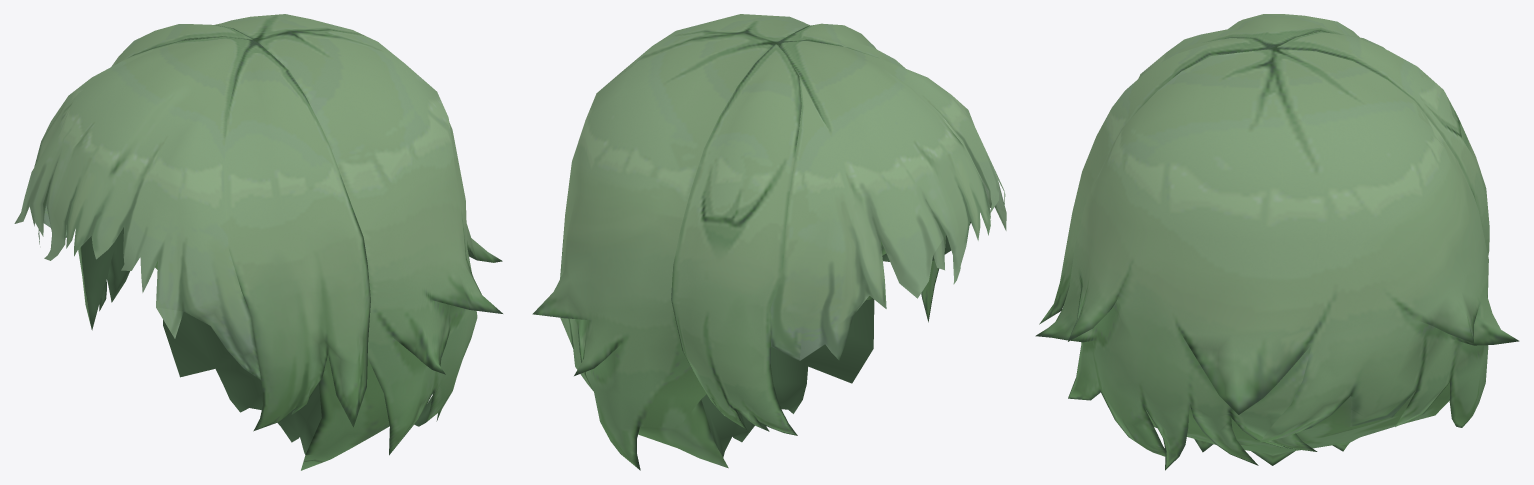
Rendered from hair_short_green.gltf.
3 renders of one model, left to right at view 1: azimuth 30°, elevation 25°; view 2: azimuth 150°, elevation 25°; view 3: azimuth 270°, elevation 25°, orthographic. The views are drawn at different scales.
Parts seen in each view (by area): view 1: Shorterw; view 2: Shorterw; view 3: Shorterw.
Boxes of the visible parts, bbox=[...] form: Shorterw: bbox=[14, 14, 502, 470]; Shorterw: bbox=[532, 14, 1006, 470]; Shorterw: bbox=[1035, 14, 1519, 470].
Size of the model in its own units: 0.7547 by 0.7034 by 0.7602.
1 material, 1 textured.
